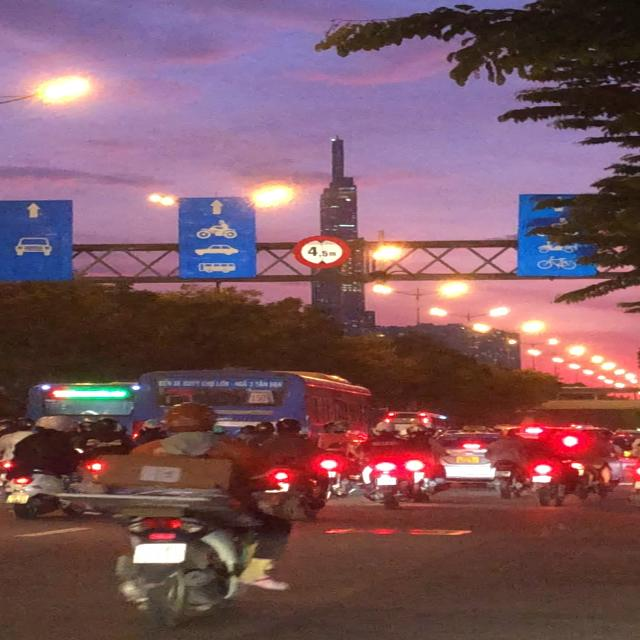Bien bao han che chieu cao: (287, 232, 355, 271)
